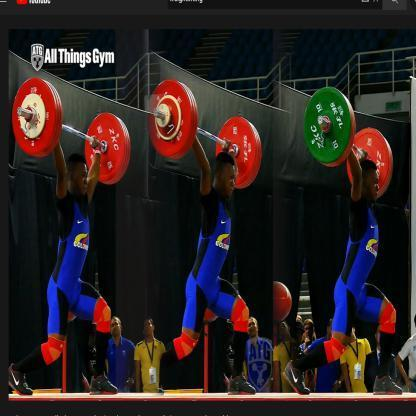barbell: (11, 76, 131, 184), (149, 77, 262, 188), (301, 86, 393, 198)
